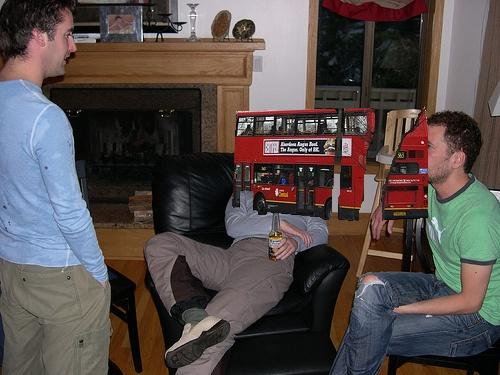tampered: (233, 107, 428, 221)
